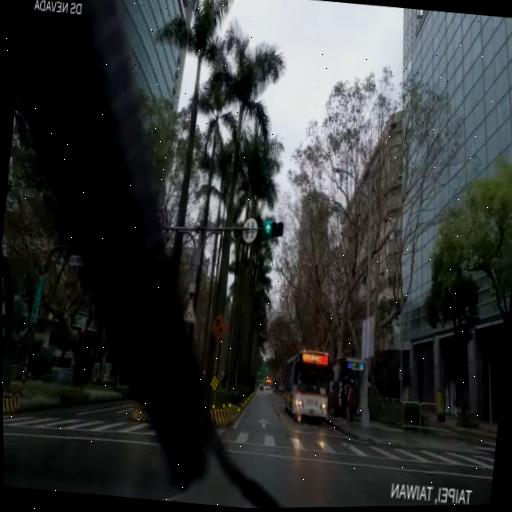Car: (277, 342, 337, 428)
